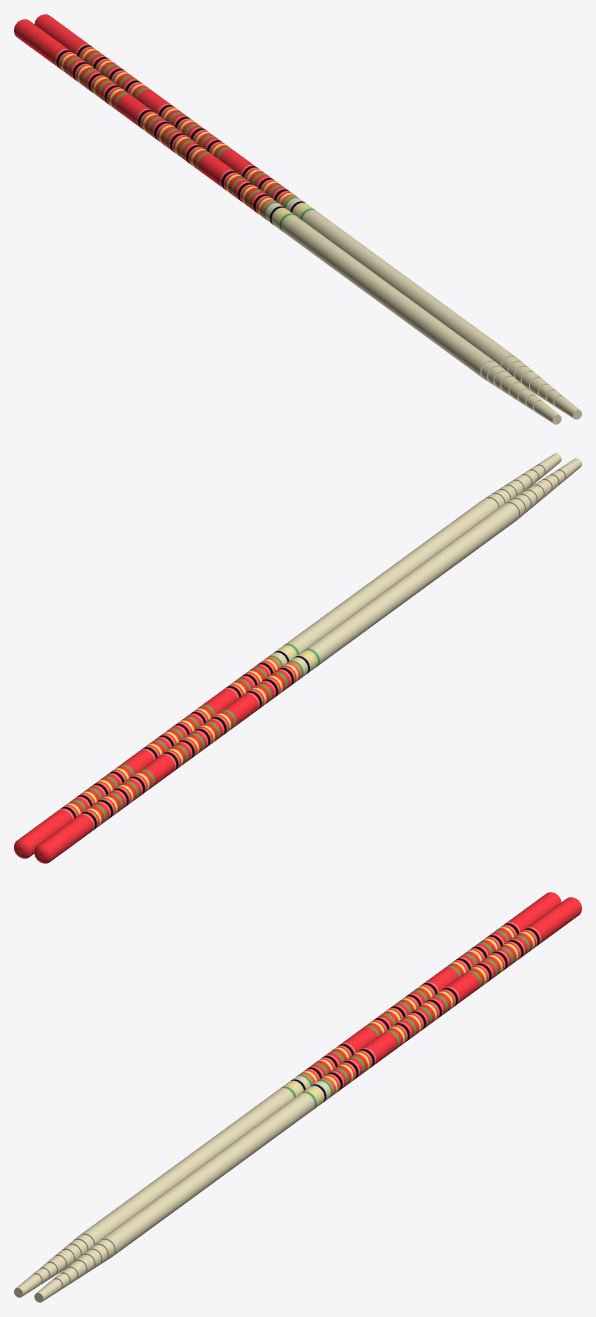
Rendered from 811_saibashi.glb.
3 renders of one model, top to bottom at view 1: azimuth 30°, elevation 25°; view 2: azimuth 150°, elevation 25°; view 3: azimuth 330°, elevation 25°, orthographic.
Parts seen in each view (by area): view 1: Body, Body2; view 2: Body, Body2; view 3: Body2, Body.
Boxes of the visible parts, x1,y1,x2,y2 form: Body: (14,19,561,424); Body2: (34,14,581,419); Body: (34,458,581,863); Body2: (14,453,561,858); Body2: (34,897,581,1302); Body: (14,892,561,1297).
Size of the model in its own units: 0.0149 by 0.007 by 0.3603.
Materials: 1 (1 with a texture image).
